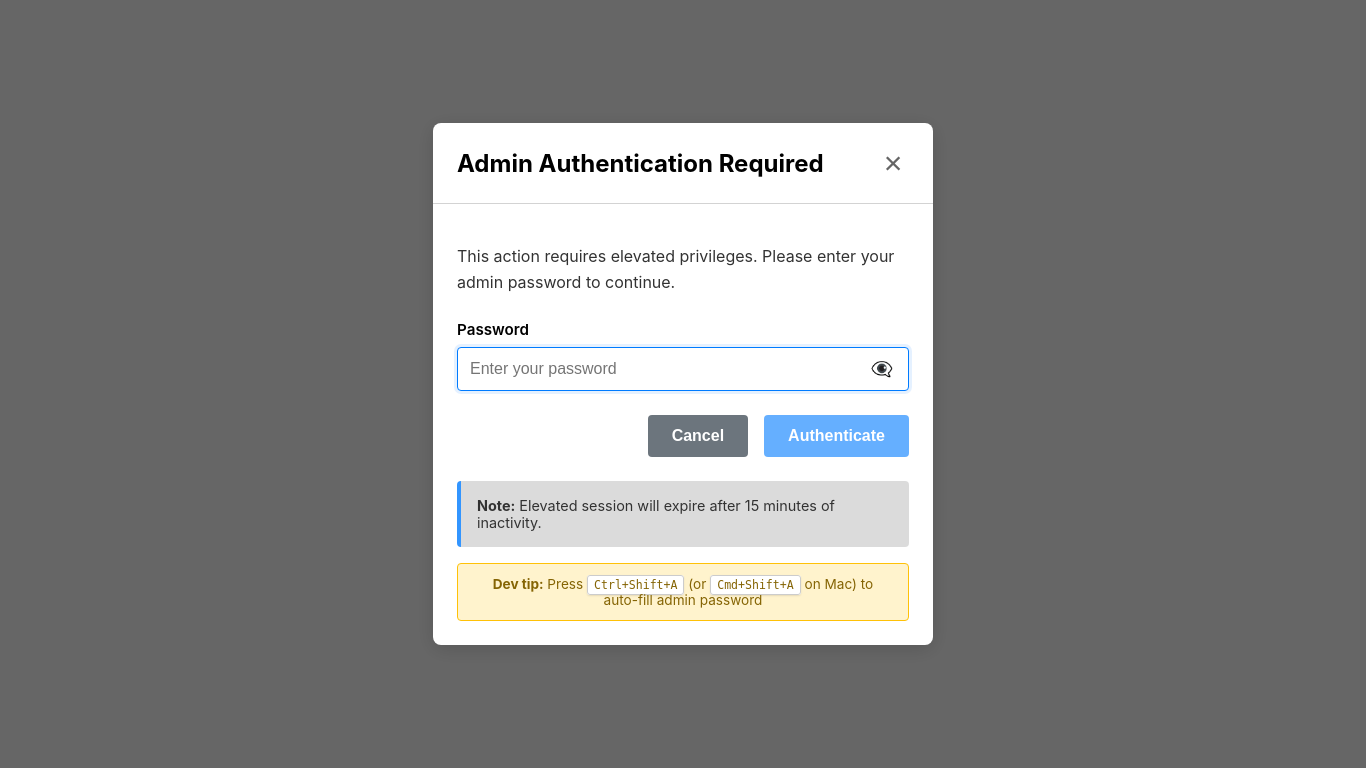
Test: AdminAuthModal › should display error message on exception
Type "testpassword" into the password field labelled "Password".
click(683, 369); type("testpassword")  # box left=457, top=347, right=909, bottom=391
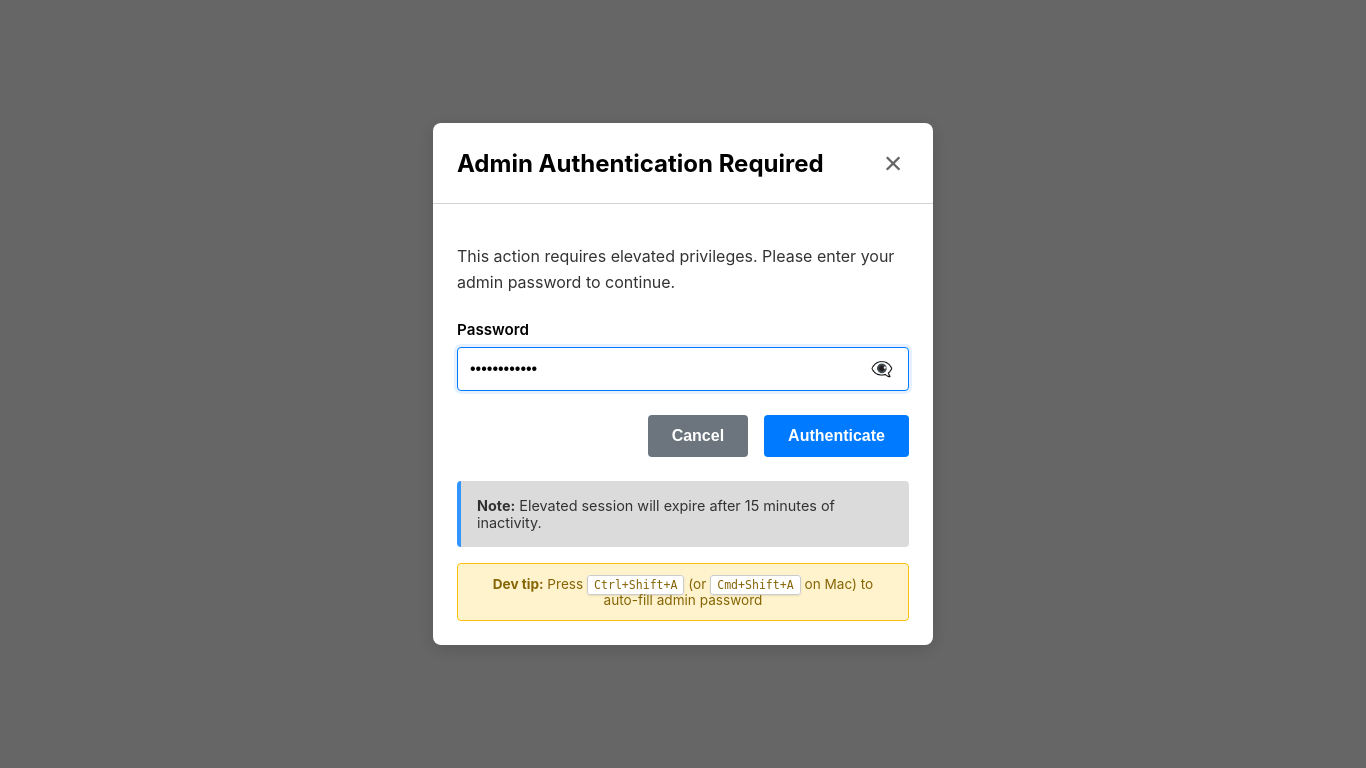
Click the button "Authenticate".
click(837, 436)  # box left=764, top=415, right=909, bottom=457
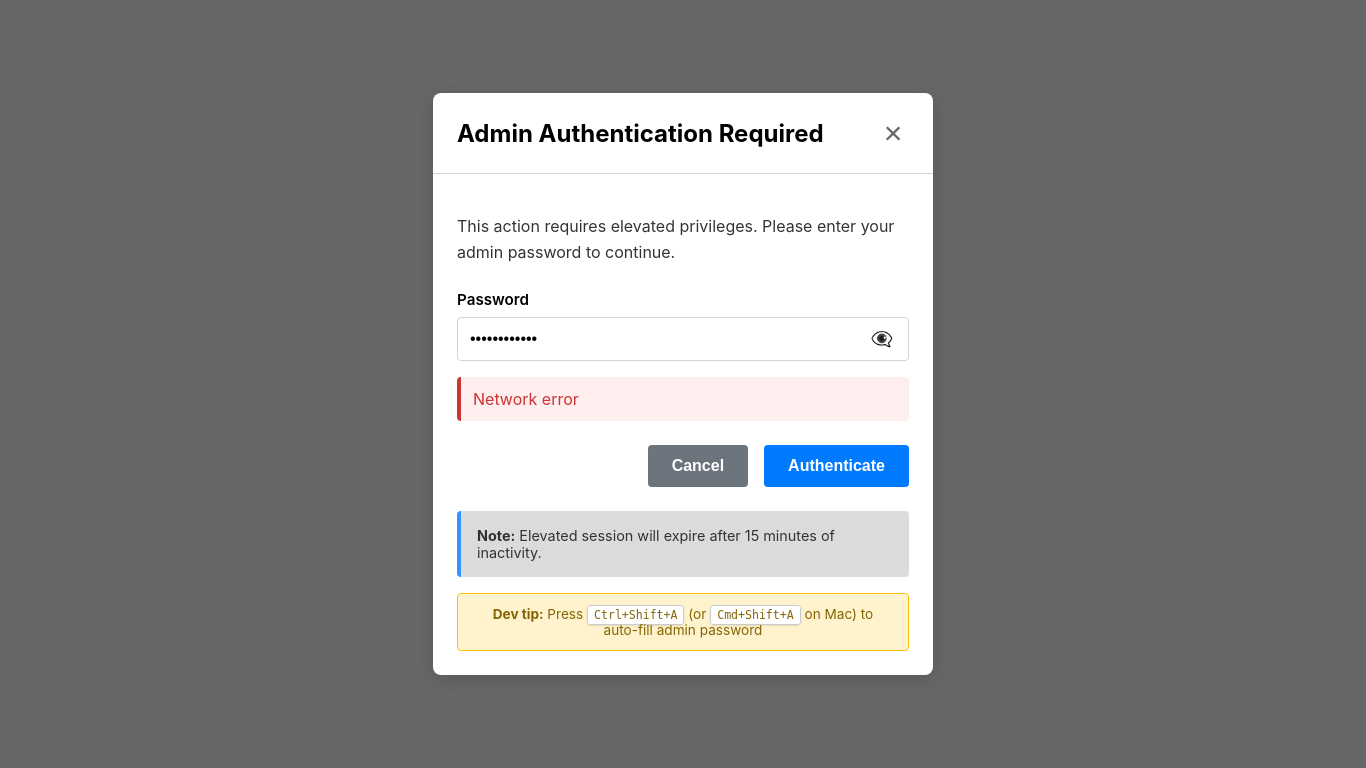
Expected: the text "Network error" is shown, left=457, top=377, right=909, bottom=421
